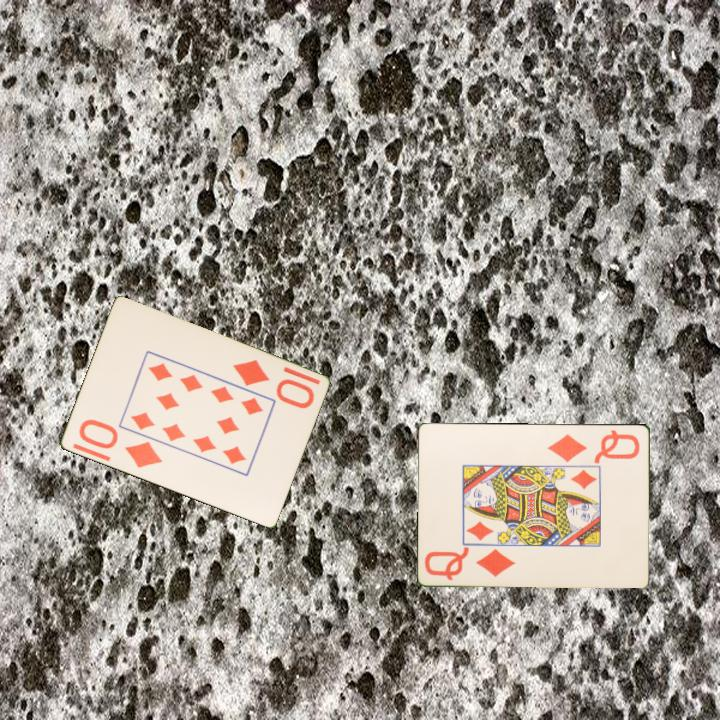10d: (75, 415, 165, 472), (229, 356, 317, 411)
Qd: (544, 426, 643, 465), (420, 545, 518, 583)
